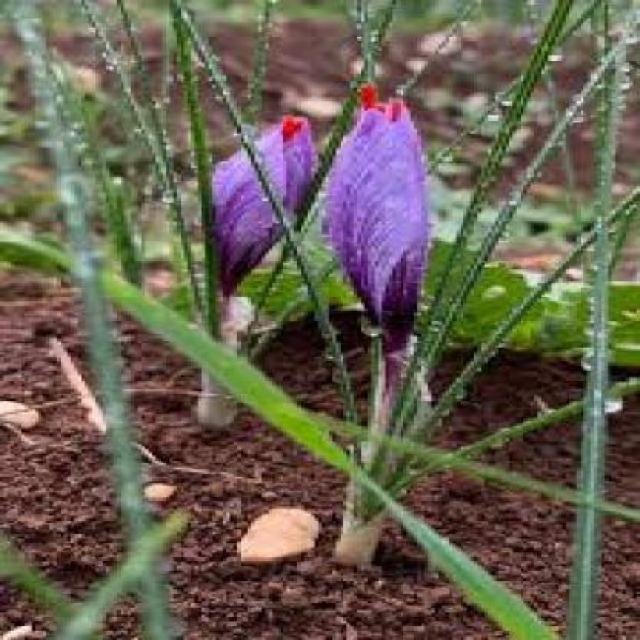Flower: (321, 102, 437, 350), (202, 110, 316, 302)
